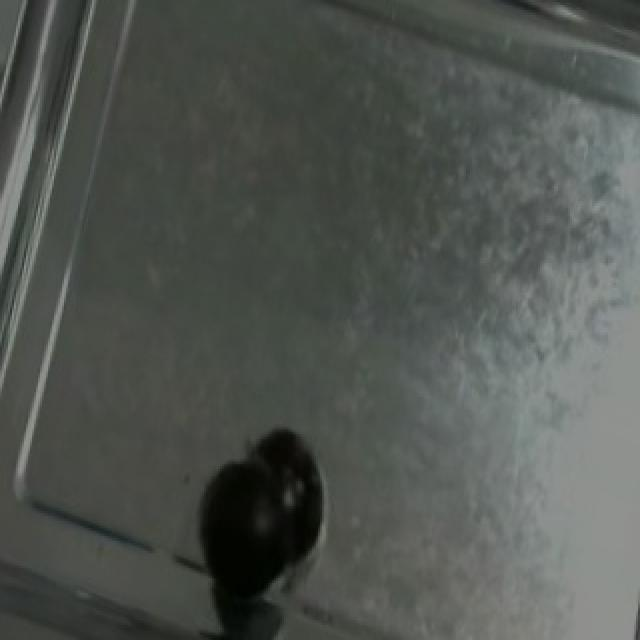Fruit: (184, 434, 332, 615)
